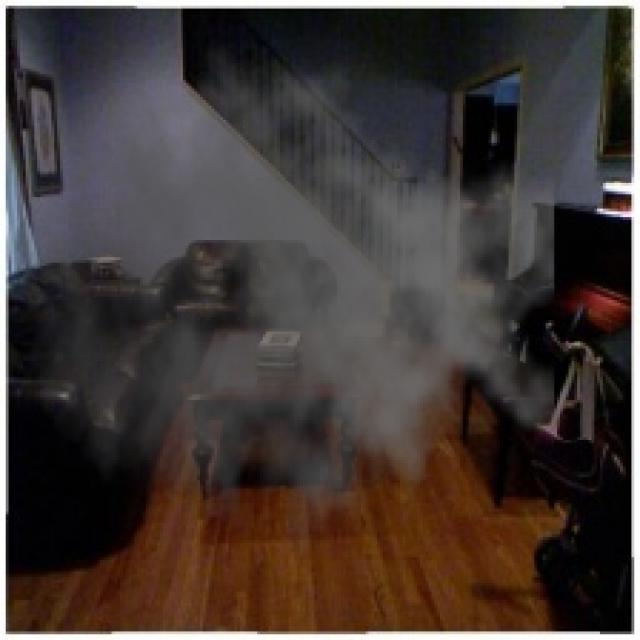Smoke: (26, 40, 554, 580)
